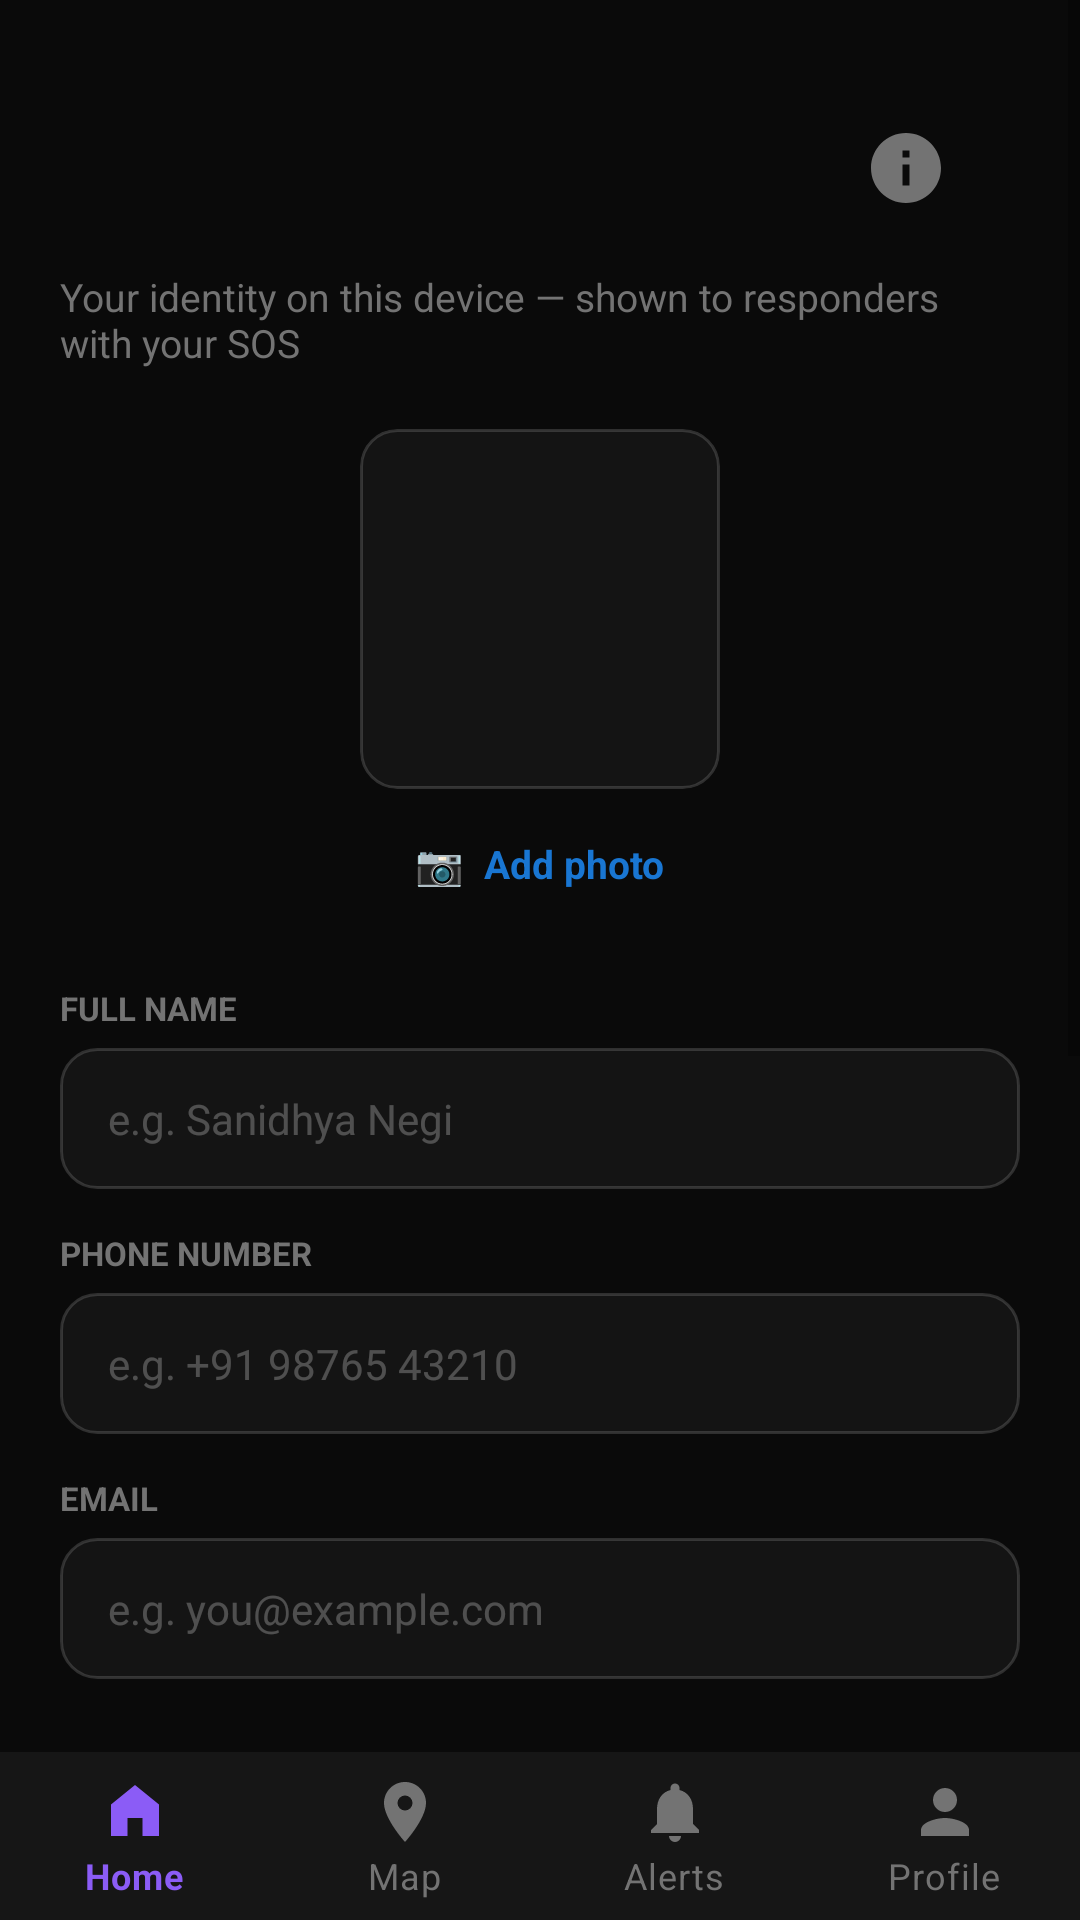

Named icons in this screenshot (1080 x 1920) and their bounding boxes, (x1, y1, x2, y2):
Help: (871, 133, 941, 203)
